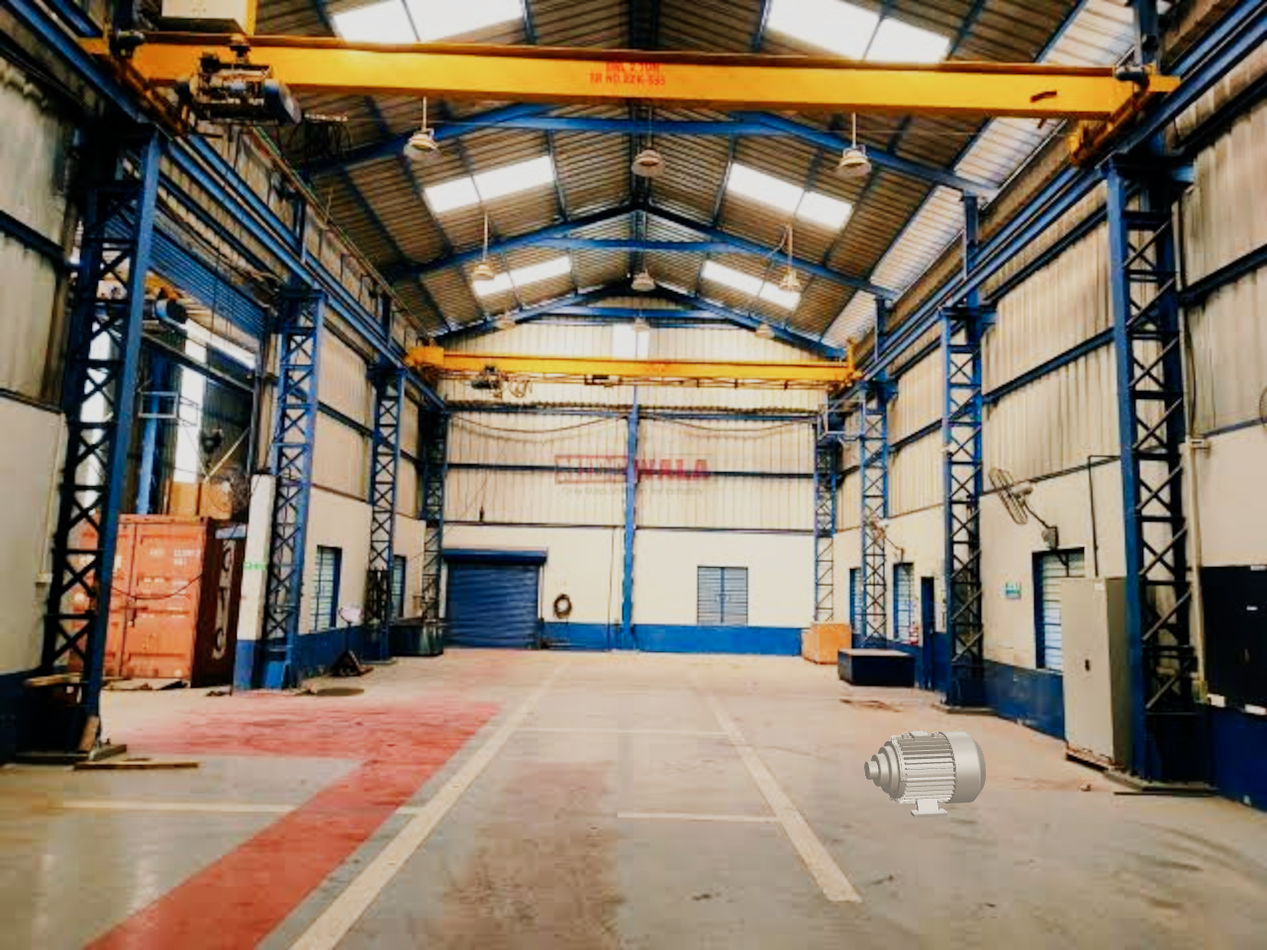ElectroMotor: (864, 730, 986, 818)
